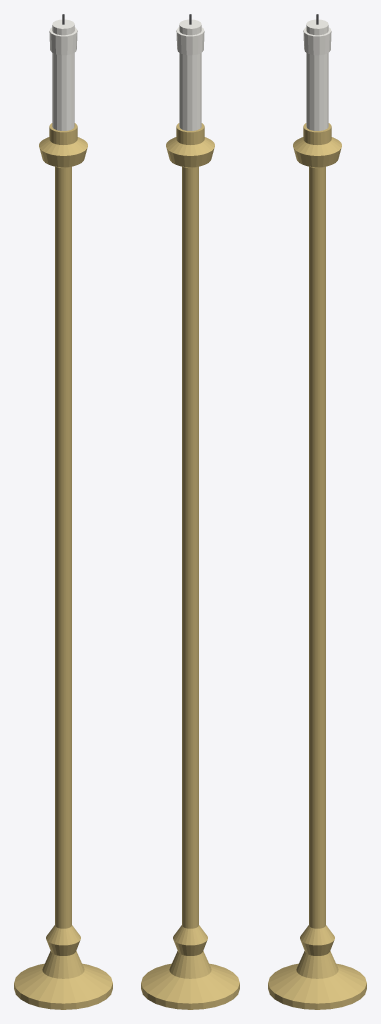
Rendered from castical.glb.
3 renders of one model, left to right at view 1: azimuth 30°, elevation 25°; view 2: azimuth 150°, elevation 25°; view 3: azimuth 330°, elevation 25°, orthographic.
Parts seen in each view (by area): view 1: castical_ouro_velho, castical_cera; view 2: castical_ouro_velho, castical_cera; view 3: castical_ouro_velho, castical_cera.
Boxes of the visible parts, left/top/right/bottom form: castical_ouro_velho: left=14, top=123, right=112, bottom=1009; castical_cera: left=49, top=19, right=77, bottom=130; castical_ouro_velho: left=141, top=123, right=239, bottom=1009; castical_cera: left=176, top=19, right=204, bottom=130; castical_ouro_velho: left=268, top=123, right=366, bottom=1009; castical_cera: left=303, top=19, right=331, bottom=130.
Bounding box in the file's own units: 0.14 × 1.52 × 0.14.
